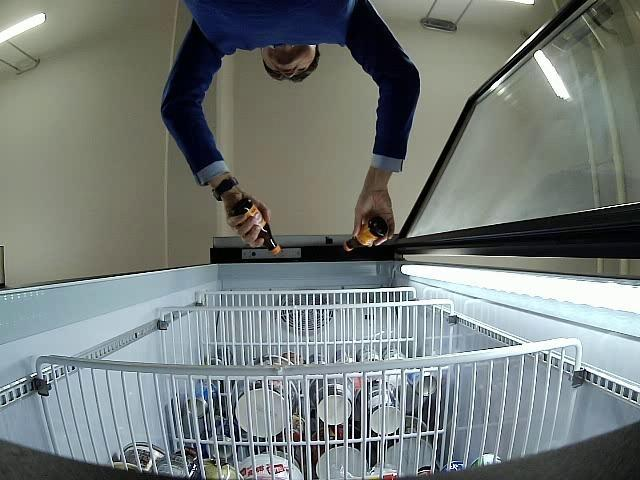17_vita500: (231, 198, 283, 258), (344, 216, 390, 255)
